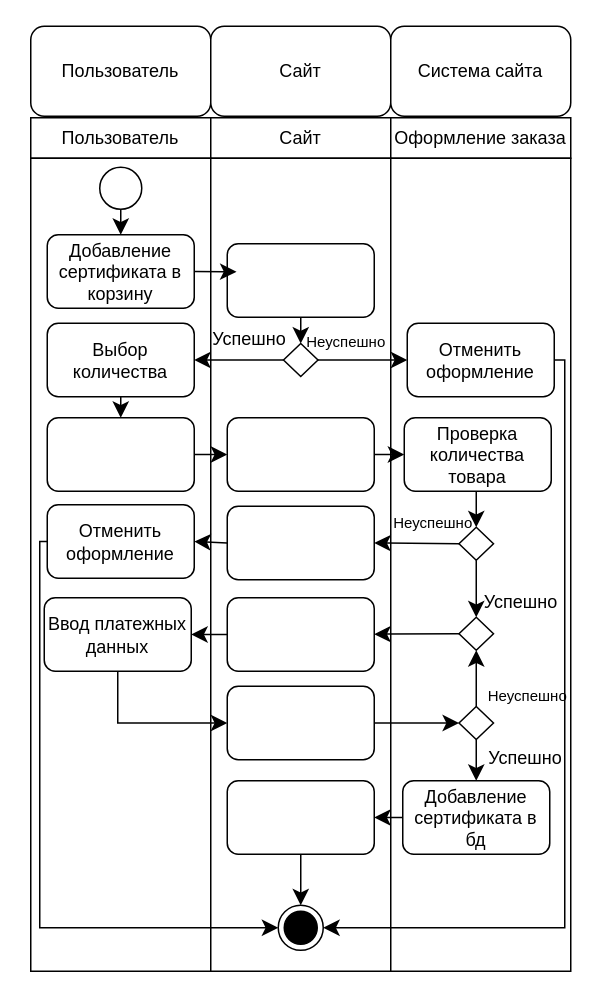
The diagram is 606 pixels wide and 998 high, and some of its shapes have lost their labels. Here are the shapes that lost their labels. From the top down, the centre of each, then its label:
[300,279]: Проверка наличия товара
[120,453]: Нажатие кнопки "Оформить заказ"
[300,453]: Оправка в оформление заказа
[300,542]: Обработать отмену заказа
[300,633]: Отправка запроса на оплату
[300,722]: Проведение транзакции
[300,816]: Отображение сертификата на странице сайта
